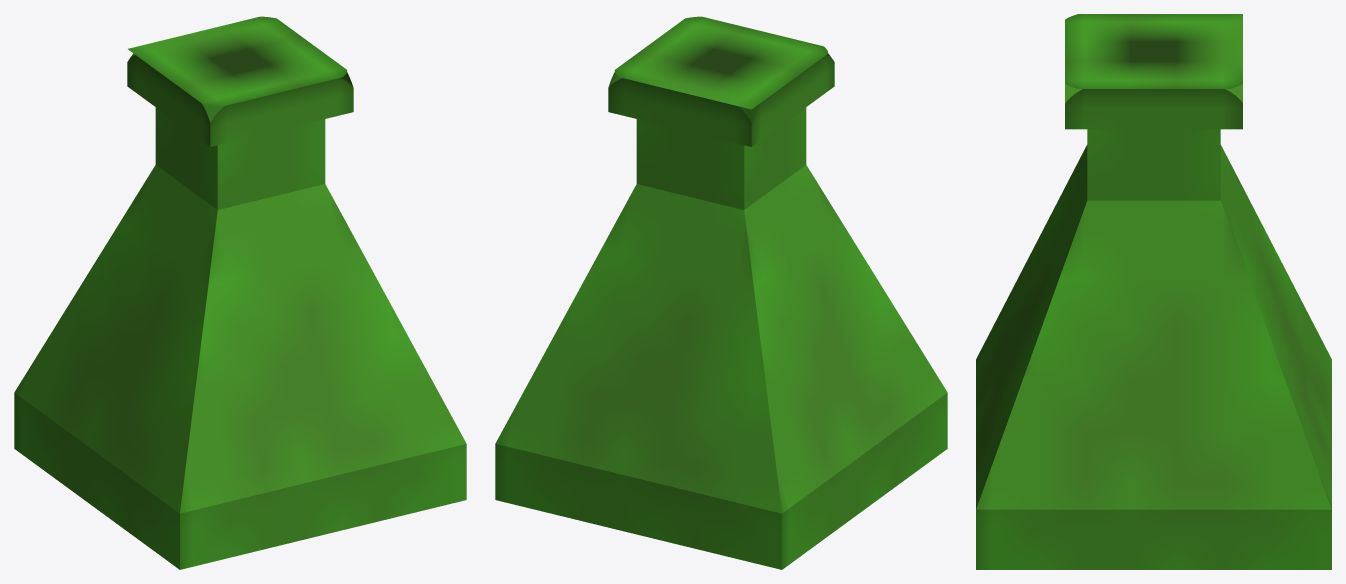
Rendered from Potion.FBX.
3 renders of one model, left to right at view 1: azimuth 30°, elevation 25°; view 2: azimuth 150°, elevation 25°; view 3: azimuth 270°, elevation 25°, orthographic. The views are drawn at different scales.
Parts seen in each view (by area): view 1: Potion; view 2: Potion; view 3: Potion.
Boxes of the visible parts, box(x1,y1,x2,y2) form: Potion: box(14, 16, 466, 569); Potion: box(495, 16, 947, 569); Potion: box(976, 14, 1331, 569).
Size of what is drawn, in the model's own units: 16 by 16 by 22.
